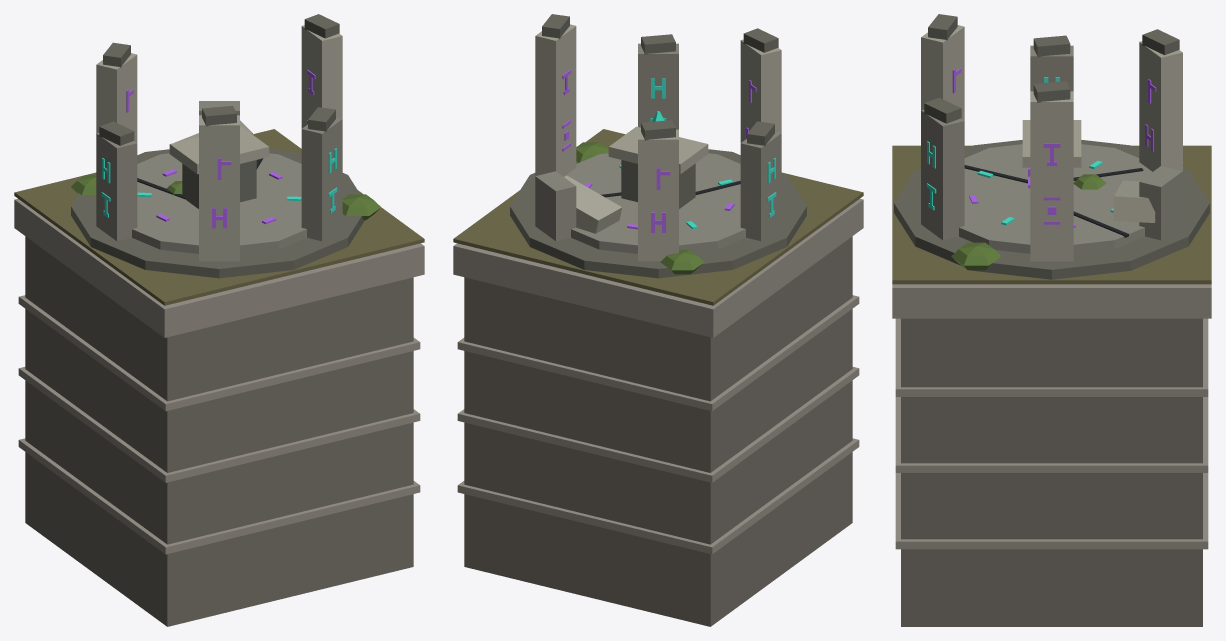
File: decor_rune_circle.glb
The picture shows the model from 3 angles, left to right: view 1: azimuth 30°, elevation 25°; view 2: azimuth 150°, elevation 25°; view 3: azimuth 270°, elevation 25°; orthographic projection. The views are drawn at different scales.
Parts seen in each view (by area): view 1: decor_rune_circle; view 2: decor_rune_circle; view 3: decor_rune_circle.
Part boxes in pixels (box(x1,y1,x2,y2)): decor_rune_circle: box(14, 14, 424, 626); decor_rune_circle: box(453, 14, 863, 626); decor_rune_circle: box(892, 14, 1211, 626).
Bounding box in the file's own units: 3.8 × 6.96 × 3.8.
